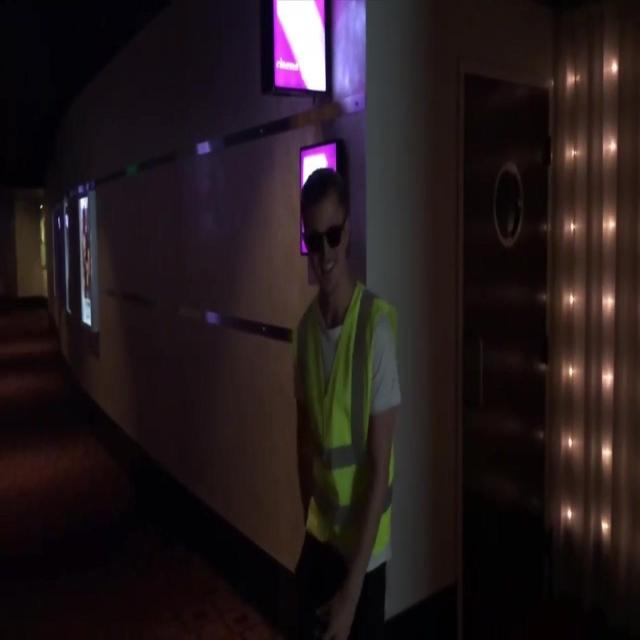Vest: (292, 279, 400, 557)
